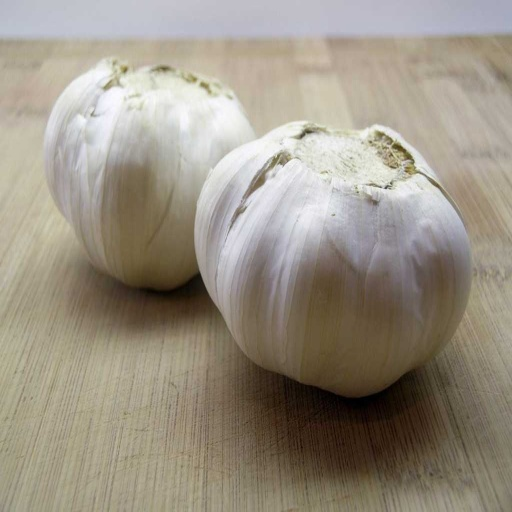Knoblauch: (193, 119, 474, 397)
